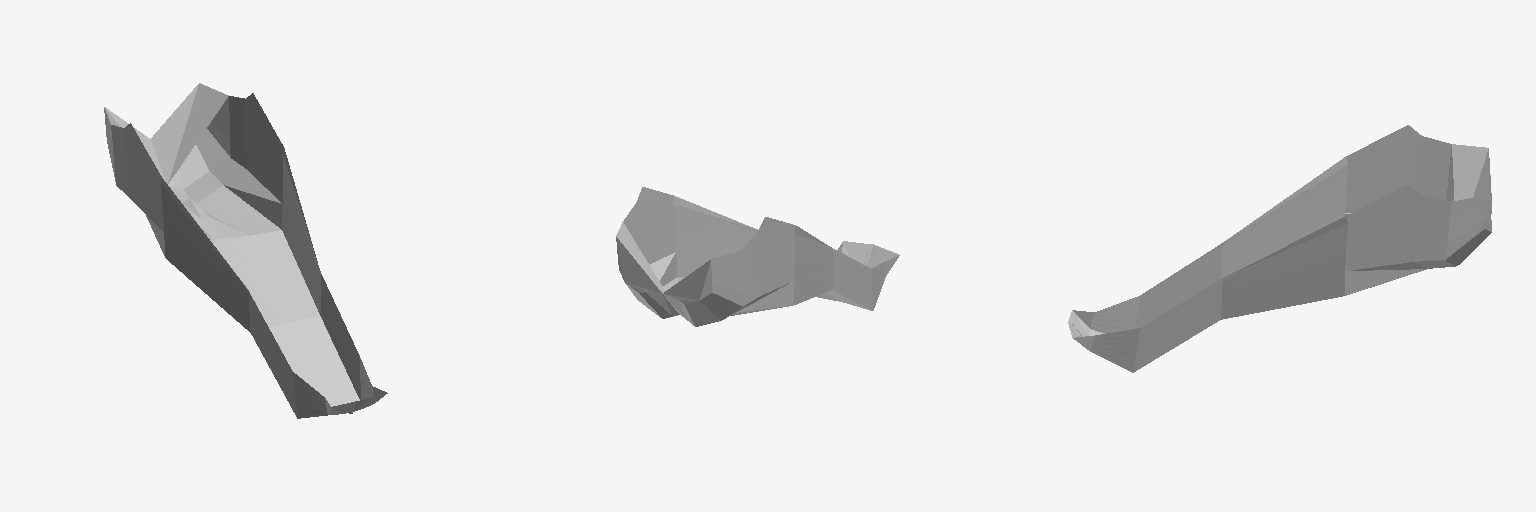
File: spinosaurusLowerJawOfficial.obj
The picture shows the model from 3 angles: view 1: azimuth 30°, elevation 25°; view 2: azimuth 150°, elevation 25°; view 3: azimuth 270°, elevation 25°; orthographic projection.
Visible parts, largest first — view 1: LowerJaw_Cube.001; view 2: LowerJaw_Cube.001; view 3: LowerJaw_Cube.001.
Part boxes in pixels (x1,y1,x2,y2): LowerJaw_Cube.001: (104, 83, 387, 418); LowerJaw_Cube.001: (616, 187, 899, 326); LowerJaw_Cube.001: (1068, 125, 1491, 372).
Bounding box in the file's own units: 0.646 × 1.02 × 1.94.